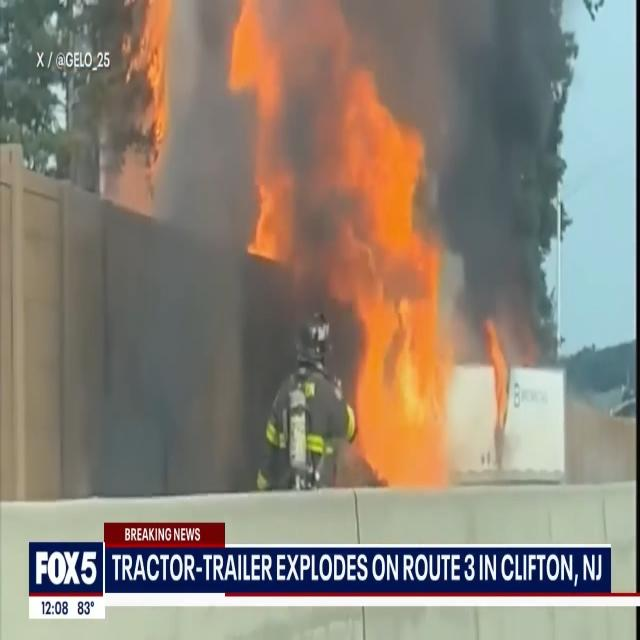fire: (336, 75, 470, 491), (244, 111, 294, 266), (134, 10, 182, 163), (227, 0, 284, 108)
